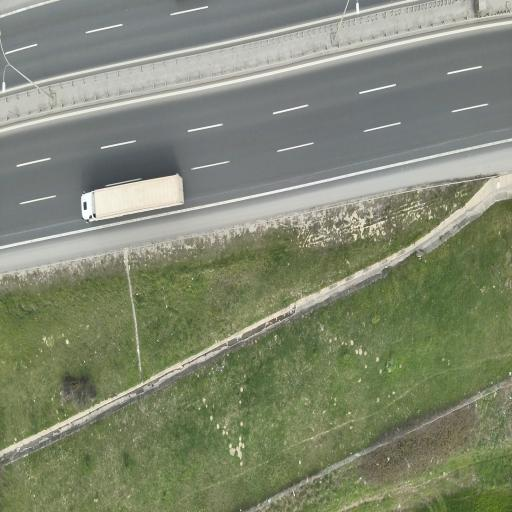car: (82, 173, 183, 221)
